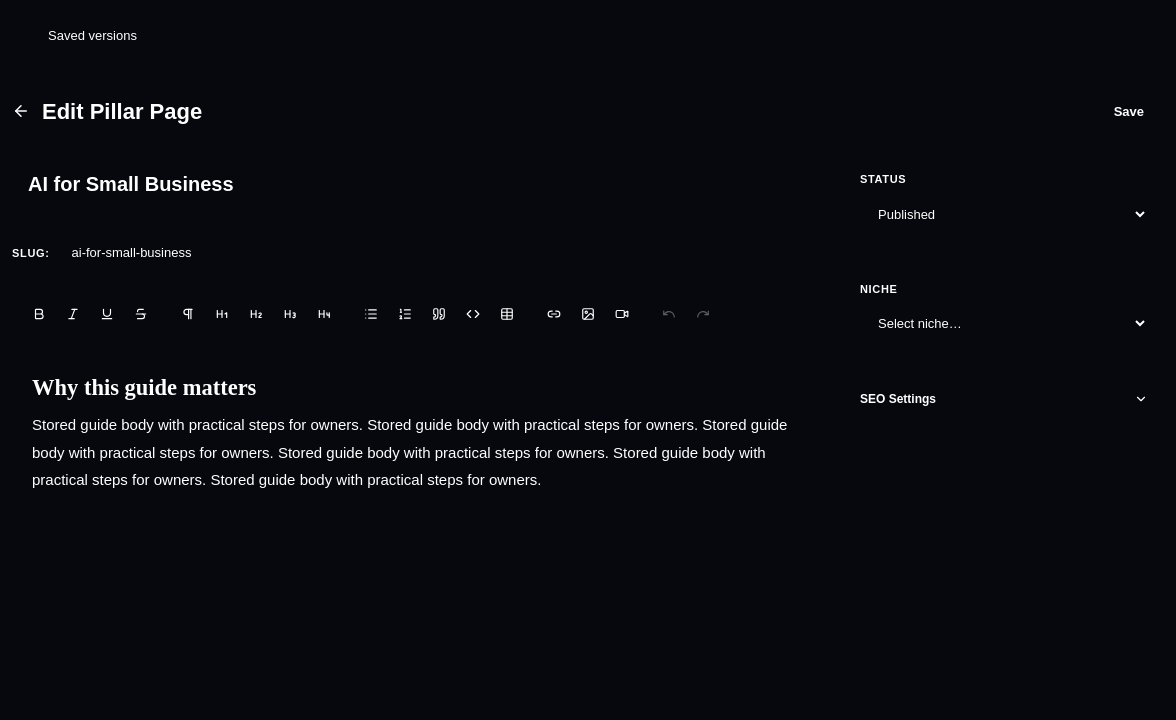
Test: topic guide editor › reads legacy meta_* SEO keys and merges both key sets on save
Later steps or results of the test are not shown.
Expected: the button "Save" is enabled, top-left (1094, 92), bottom-right (1164, 131)
Click the button "SEO Settings" at (898, 399), box top-left (860, 390), bottom-right (1148, 408)
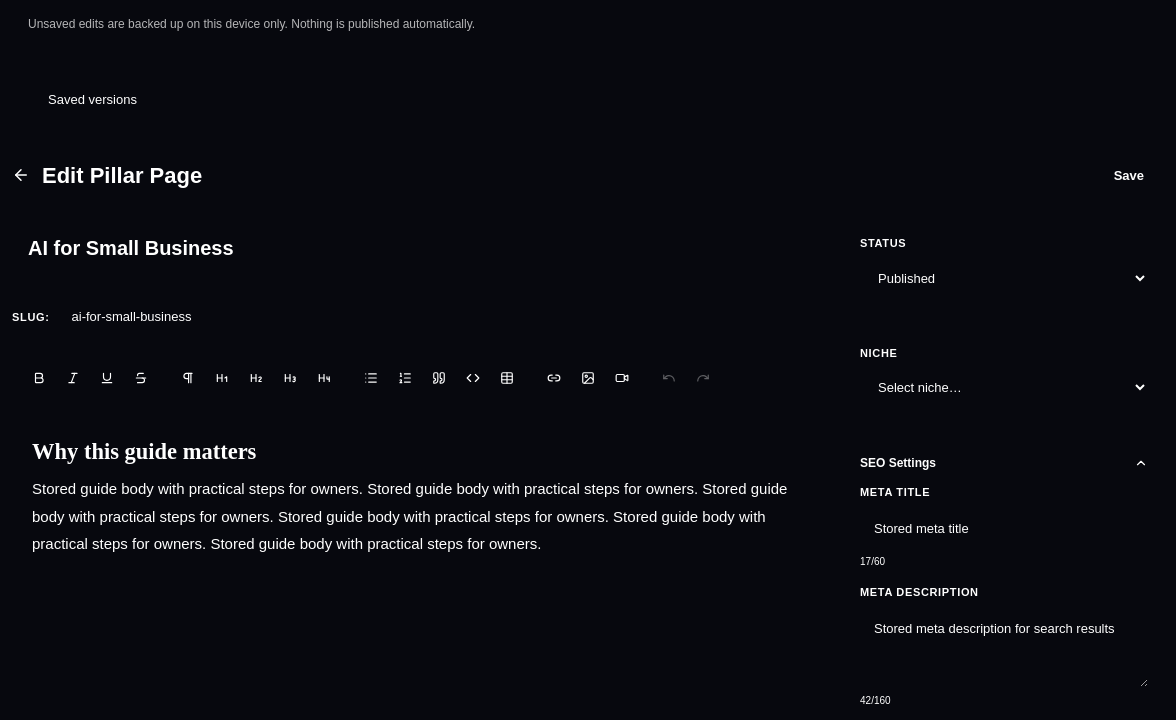
Expected: the field showing "Stored meta title" below "Meta Title" is shown, top-left (860, 508), bottom-right (1148, 548)
Expected: the text box showing "Stored meta description for search results" is shown, top-left (860, 608), bottom-right (1148, 687)
